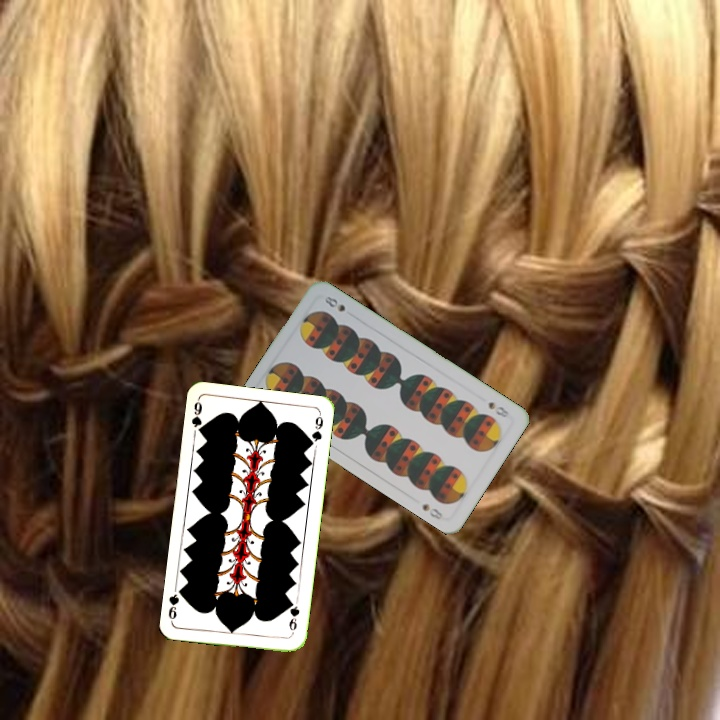G9: (187, 396, 206, 437), (285, 597, 302, 638)
S8: (484, 398, 512, 420)
